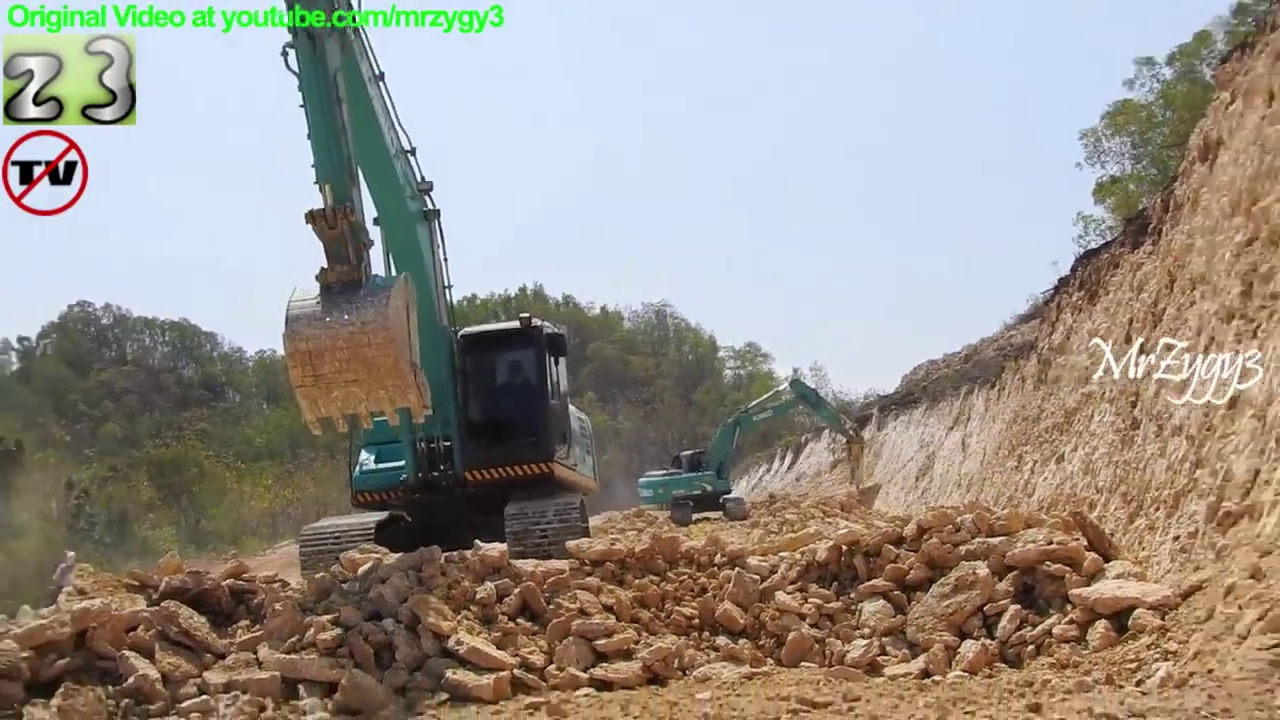excavator: (273, 1, 607, 596)
excavator breaker: (633, 369, 868, 531)
